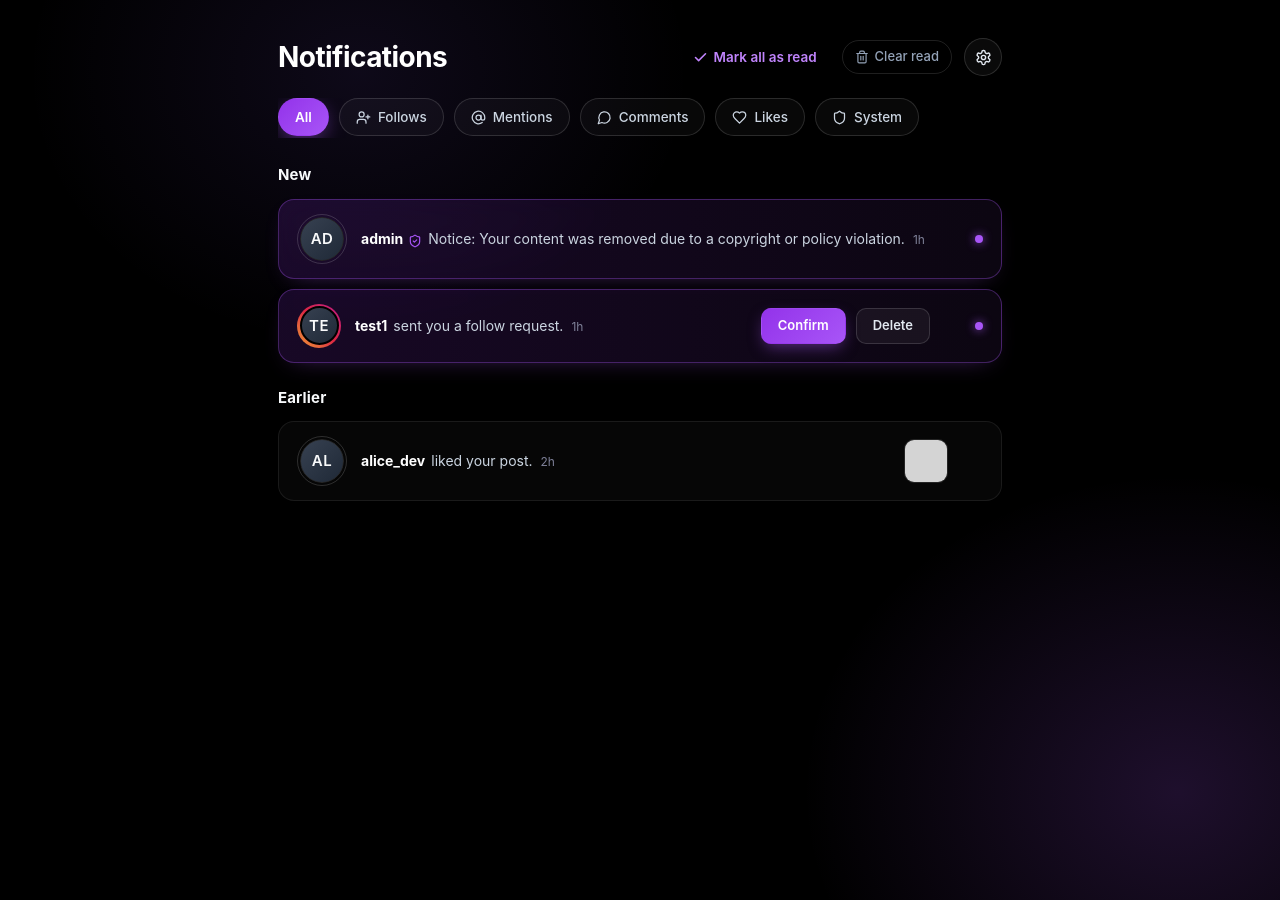
it: NotificationsPage Redesign Suite › filters notifications by category and shows empty filter reset when category has no items
expect the text "alice_dev" is shown: met, box [361,451,425,471]
Step 1. Click the tab "Likes" → [760, 117], box [716,98,805,136]
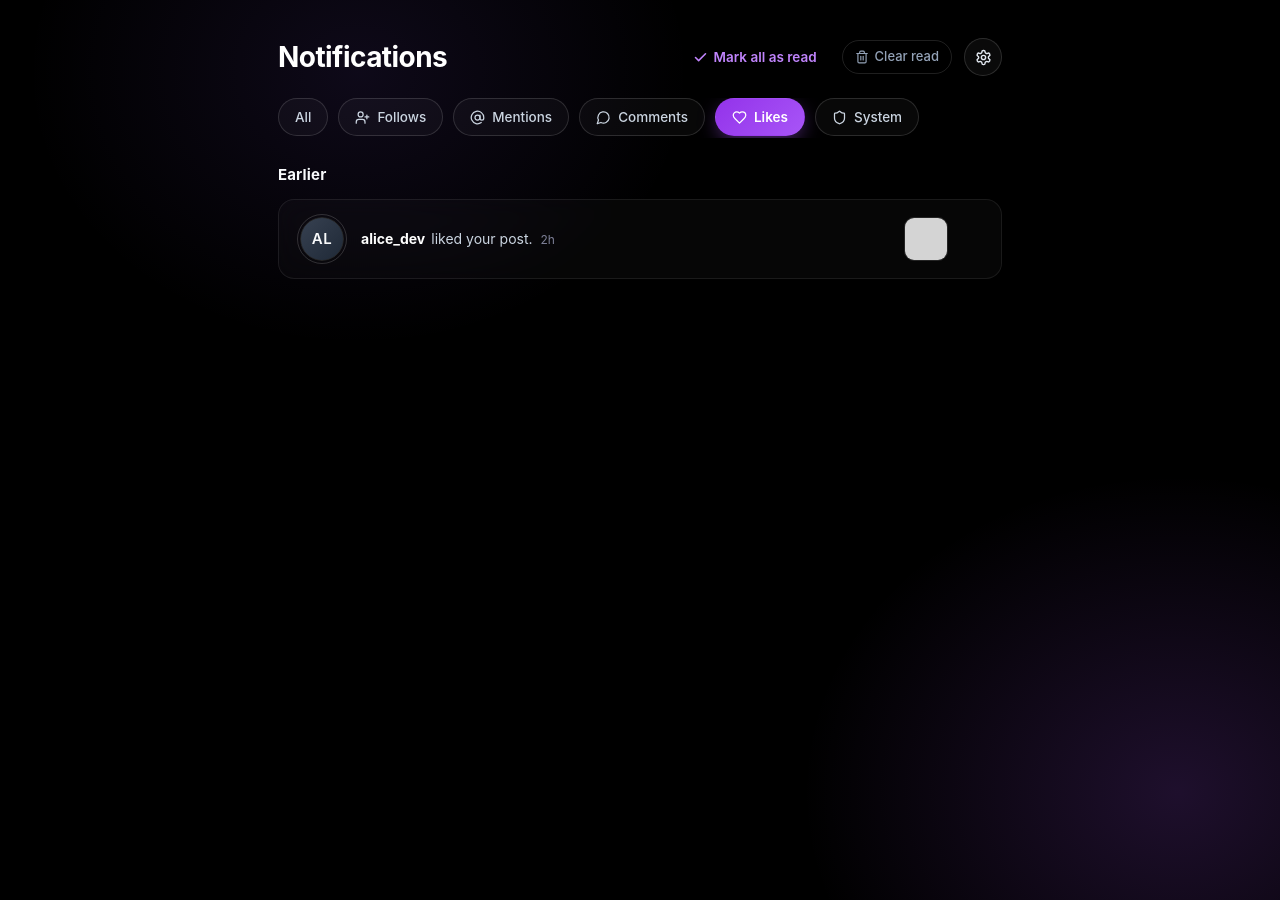
expect the text "alice_dev" is shown: met, box [361,229,425,249]
expect the text "test1" is gone: met
Step 2. Click the tab "Mentions" → [511, 117], box [453,98,569,136]
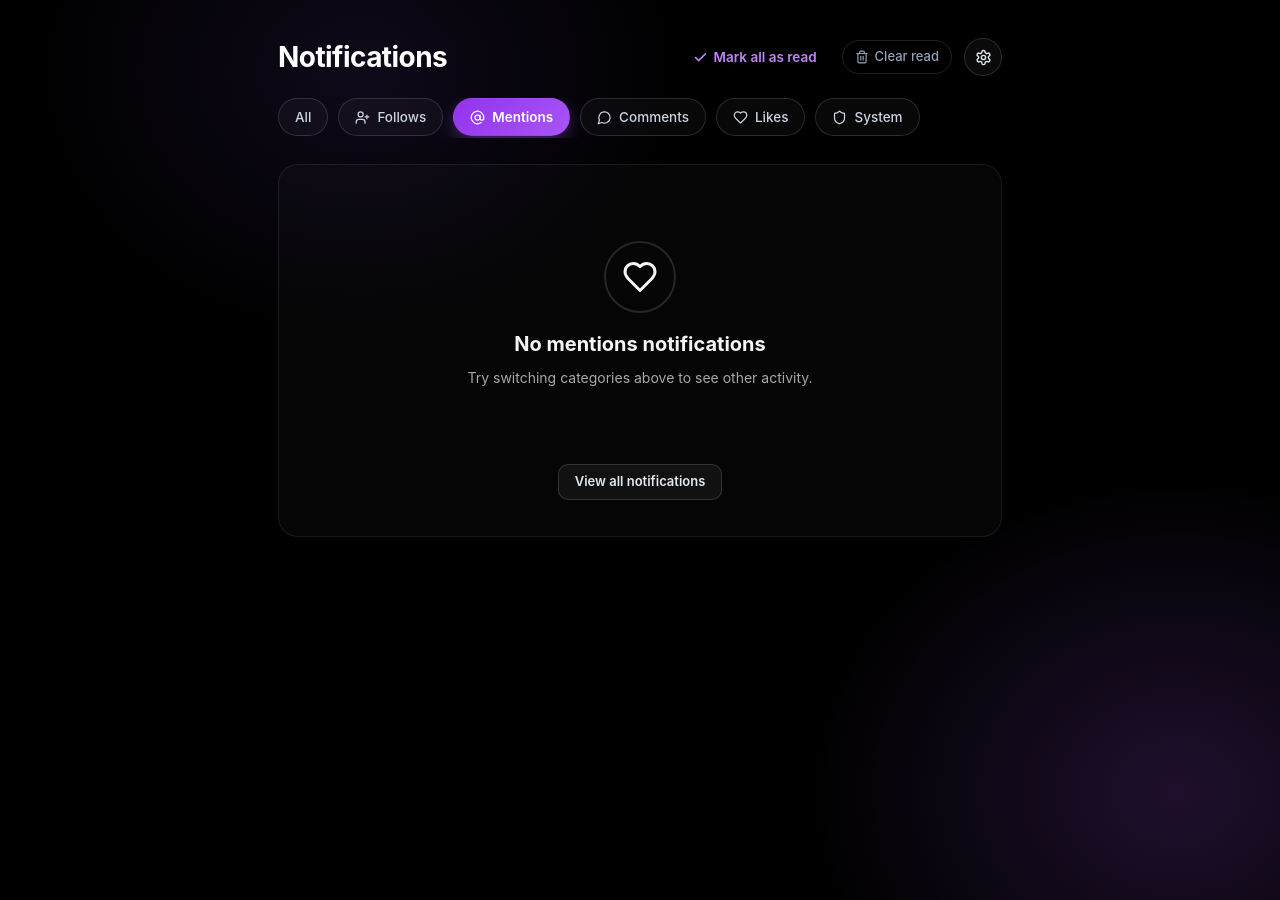
expect the heading "No mentions notifications" is shown: met, box [514,329,766,359]
Step 3. Click the button "View all notifications" → [640, 482], box [558,464,722,500]
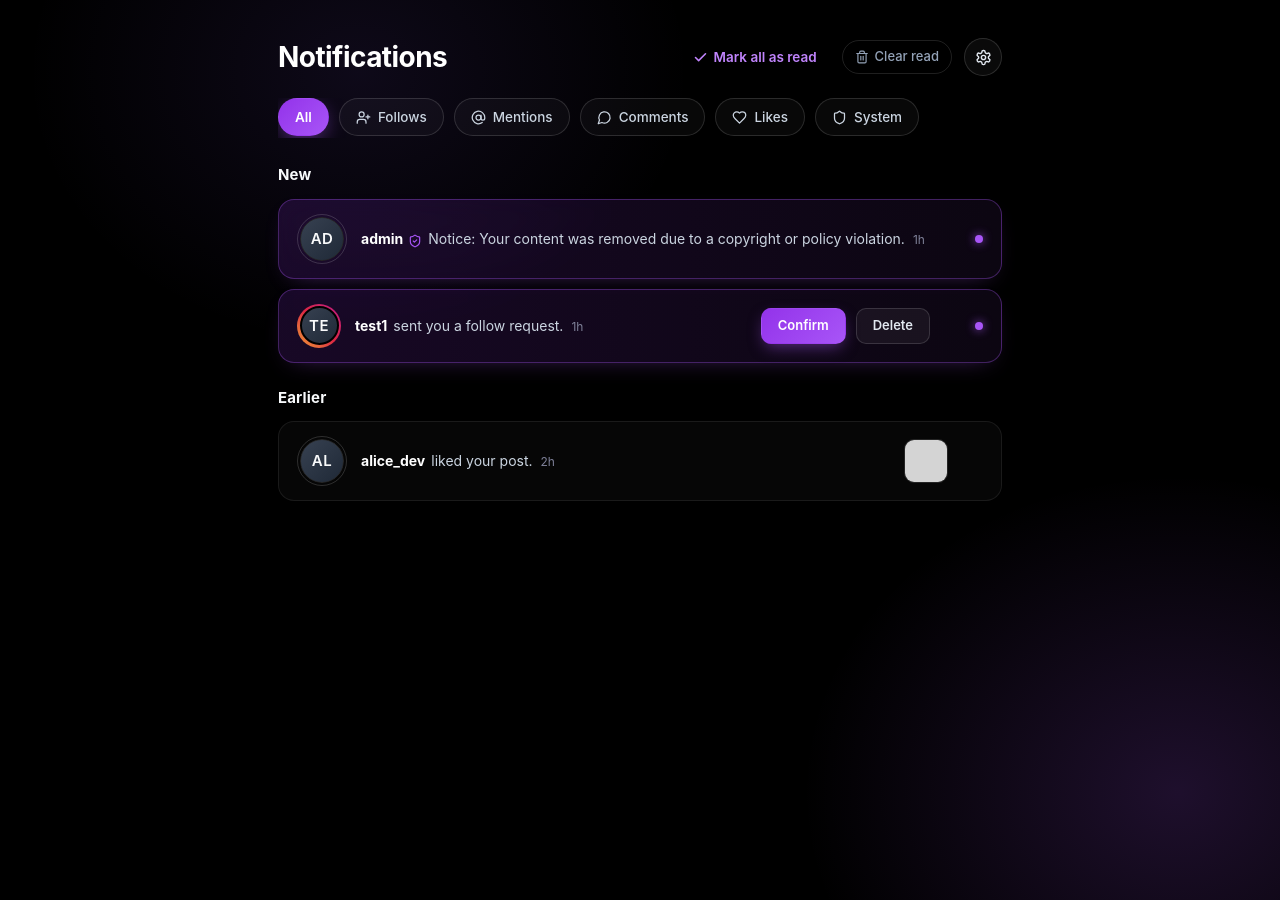
expect the text "test1" is shown: met, box [355,316,387,336]
